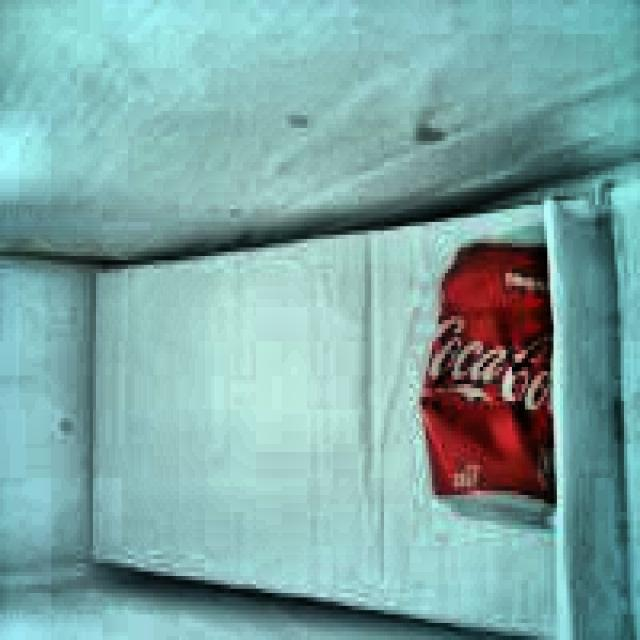Cans: (409, 224, 556, 517)
